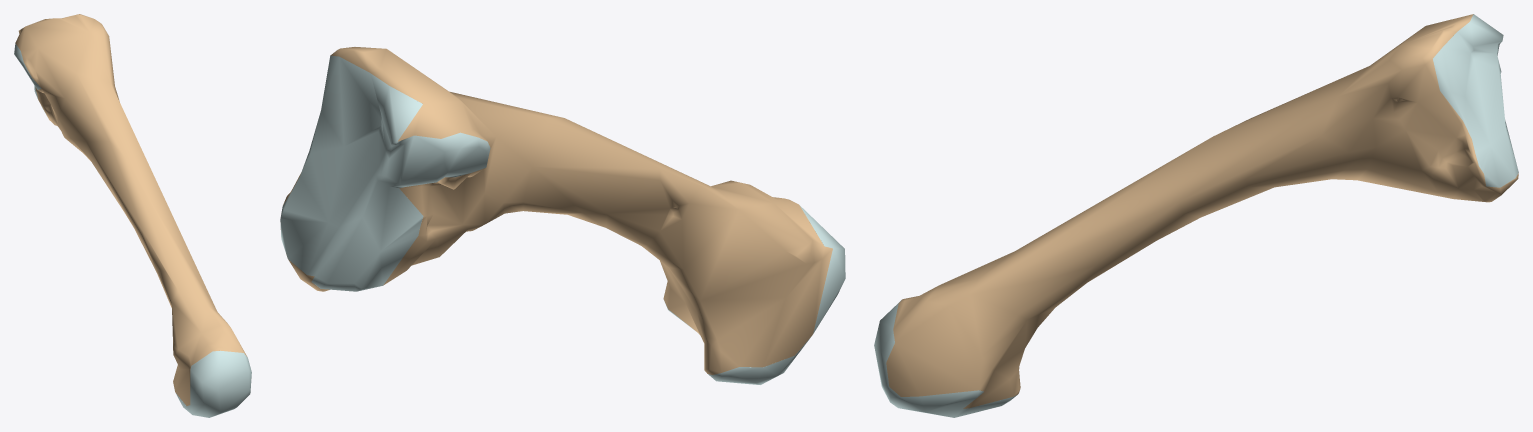
Rendered from 2d_metatarsal_bone.r_Generated_Mesh_From_X3D.931.glb.
3 renders of one model, left to right at view 1: azimuth 30°, elevation 25°; view 2: azimuth 150°, elevation 25°; view 3: azimuth 270°, elevation 25°, orthographic. The views are drawn at different scales.
Visible parts, largest first — view 1: 2d_metatarsal_bone.r_Generated_Mesh_From_X3D.931; view 2: 2d_metatarsal_bone.r_Generated_Mesh_From_X3D.931; view 3: 2d_metatarsal_bone.r_Generated_Mesh_From_X3D.931.
Boxes of the visible parts, box(x1,y1,x2,y2) form: 2d_metatarsal_bone.r_Generated_Mesh_From_X3D.931: box(14, 14, 251, 417); 2d_metatarsal_bone.r_Generated_Mesh_From_X3D.931: box(280, 47, 845, 384); 2d_metatarsal_bone.r_Generated_Mesh_From_X3D.931: box(874, 14, 1518, 417).
Size of the model in its own units: 0.0174 by 0.0499 by 0.0705.
